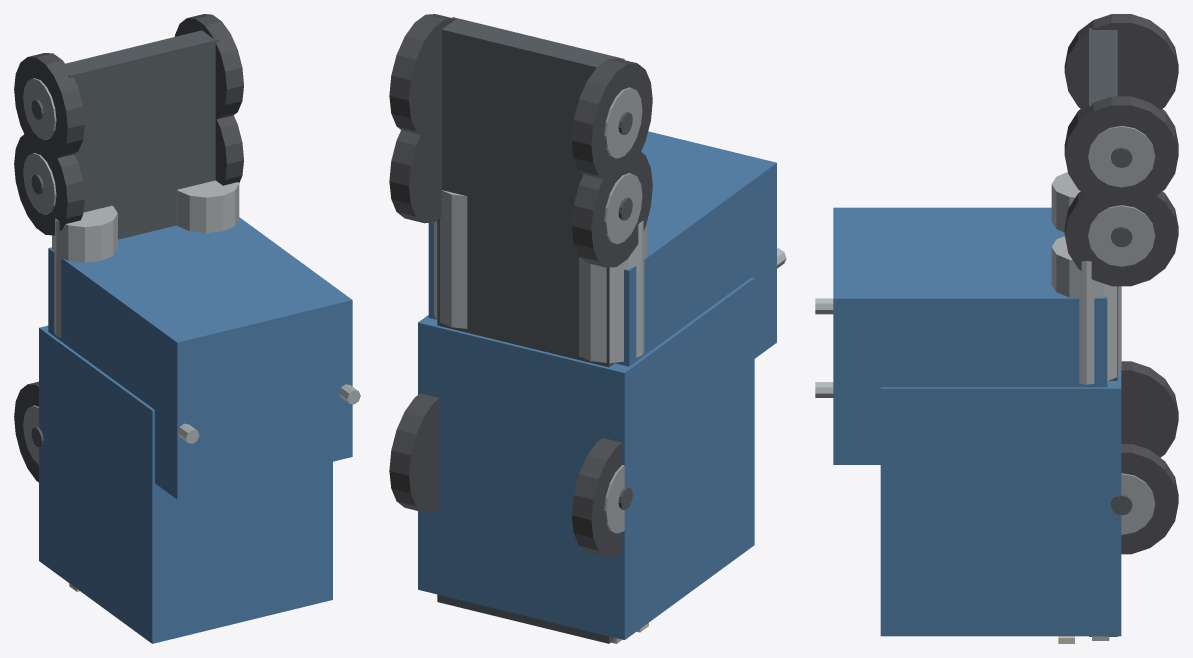
File: semi_sleeper.glb
The picture shows the model from 3 angles, left to right: view 1: azimuth 30°, elevation 25°; view 2: azimuth 150°, elevation 25°; view 3: azimuth 270°, elevation 25°; orthographic projection. The views are drawn at different scales.
Visible parts, largest first — view 1: 0007_Sleeper_pod, 0001_Tractor_cab, 0000_Tractor_frame, 0024_Wheel_tire, 0018_Wheel_tire, 0008_Fuel_tank, 0027_Wheel_tire, 0010_Fuel_tank, 0021_Wheel_tire, 0025_Wheel_rim, 0019_Wheel_rim, 0012_Wheel_tire (+1 smaller); view 2: 0001_Tractor_cab, 0000_Tractor_frame, 0007_Sleeper_pod, 0008_Fuel_tank, 0024_Wheel_tire, 0027_Wheel_tire, 0018_Wheel_tire, 0015_Wheel_tire, 0021_Wheel_tire, 0012_Wheel_tire, 0010_Fuel_tank, 0019_Wheel_rim (+2 smaller); view 3: 0001_Tractor_cab, 0007_Sleeper_pod, 0024_Wheel_tire, 0027_Wheel_tire, 0021_Wheel_tire, 0010_Fuel_tank, 0012_Wheel_tire, 0015_Wheel_tire, 0028_Wheel_rim, 0022_Wheel_rim, 0000_Tractor_frame, 0016_Wheel_rim (+1 smaller).
Boxes of the visible parts, bbox=[...] form: 0007_Sleeper_pod: bbox=[48, 217, 352, 499]; 0001_Tractor_cab: bbox=[39, 325, 332, 643]; 0000_Tractor_frame: bbox=[65, 30, 219, 239]; 0024_Wheel_tire: bbox=[14, 53, 84, 160]; 0018_Wheel_tire: bbox=[14, 131, 84, 235]; 0008_Fuel_tank: bbox=[52, 205, 117, 337]; 0027_Wheel_tire: bbox=[174, 14, 243, 119]; 0010_Fuel_tank: bbox=[177, 180, 239, 232]; 0021_Wheel_tire: bbox=[215, 115, 243, 185]; 0025_Wheel_rim: bbox=[23, 78, 56, 140]; 0019_Wheel_rim: bbox=[23, 153, 56, 214]; 0012_Wheel_tire: bbox=[14, 381, 38, 482]; 0001_Tractor_cab: bbox=[418, 277, 754, 639]; 0000_Tractor_frame: bbox=[437, 17, 624, 643]; 0007_Sleeper_pod: bbox=[428, 131, 776, 366]; 0008_Fuel_tank: bbox=[579, 220, 647, 363]; 0024_Wheel_tire: bbox=[571, 58, 652, 179]; 0027_Wheel_tire: bbox=[389, 14, 455, 137]; 0018_Wheel_tire: bbox=[572, 149, 652, 267]; 0015_Wheel_tire: bbox=[389, 393, 439, 512]; 0021_Wheel_tire: bbox=[389, 107, 441, 223]; 0012_Wheel_tire: bbox=[571, 438, 622, 556]; 0010_Fuel_tank: bbox=[434, 190, 467, 328]; 0019_Wheel_rim: bbox=[604, 173, 642, 244]; 0001_Tractor_cab: bbox=[880, 371, 1121, 636]; 0007_Sleeper_pod: bbox=[833, 207, 1107, 464]; 0024_Wheel_tire: bbox=[1064, 14, 1178, 110]; 0027_Wheel_tire: bbox=[1064, 96, 1178, 206]; 0021_Wheel_tire: bbox=[1064, 185, 1178, 286]; 0010_Fuel_tank: bbox=[1051, 236, 1121, 384]; 0012_Wheel_tire: bbox=[1121, 361, 1178, 457]; 0015_Wheel_tire: bbox=[1121, 444, 1178, 554]; 0028_Wheel_rim: bbox=[1088, 126, 1155, 187]; 0022_Wheel_rim: bbox=[1088, 205, 1155, 266]; 0000_Tractor_frame: bbox=[1089, 28, 1117, 636]; 0016_Wheel_rim: bbox=[1121, 473, 1155, 534].
Bounding box in the file's own units: 2.59 × 6.83 × 4.15.
